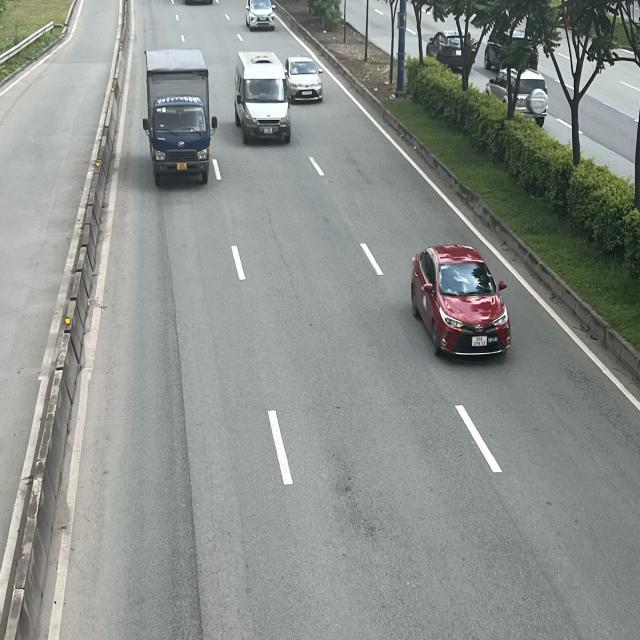car: (410, 243, 511, 359), (286, 56, 322, 101), (246, 0, 277, 32)
truck: (141, 47, 216, 182)
van: (233, 50, 290, 142)
